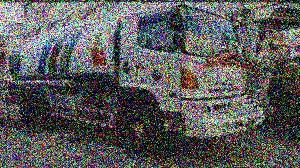truck: (10, 4, 263, 158)
